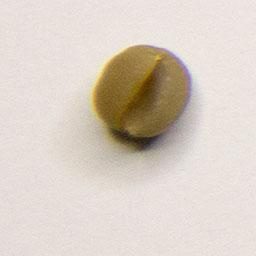peaberry: (91, 40, 193, 142)
